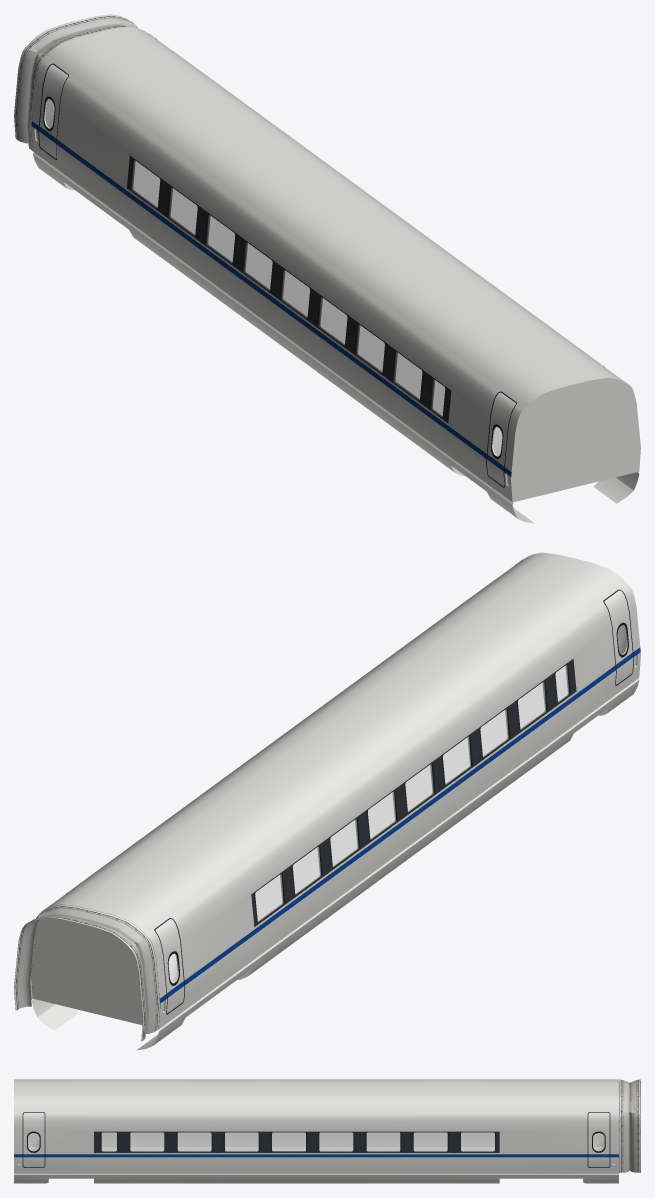
3 views of the same model, one above another, from view 1: azimuth 30°, elevation 25°; view 2: azimuth 150°, elevation 25°; view 3: azimuth 270°, elevation 25° (orthographic). The views are drawn at different scales.
Visible parts, largest first — view 1: crh3_2hcx, crh3_2hcxbl, crh3_gdwk009; view 2: crh3_2hcx, crh3_2hcxbl, crh3_gdwk009; view 3: crh3_2hcx, crh3_2hcxbl, crh3_gdwk009.
Boxes of the visible parts, <box> form: crh3_2hcx: <box>31,26,640,523</box>; crh3_2hcxbl: <box>132,160,445,416</box>; crh3_gdwk009: <box>14,14,137,150</box>; crh3_2hcx: <box>31,552,640,1050</box>; crh3_2hcxbl: <box>255,665,568,921</box>; crh3_gdwk009: <box>14,904,160,1041</box>; crh3_2hcx: <box>14,1079,618,1183</box>; crh3_2hcxbl: <box>101,1132,494,1151</box>; crh3_gdwk009: <box>619,1079,640,1172</box>.
Bounding box in the file's own units: 386 × 368 × 2555.
